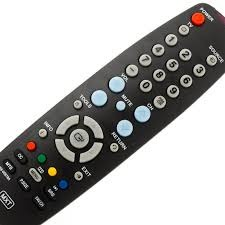remote control: (0, 0, 225, 225)
